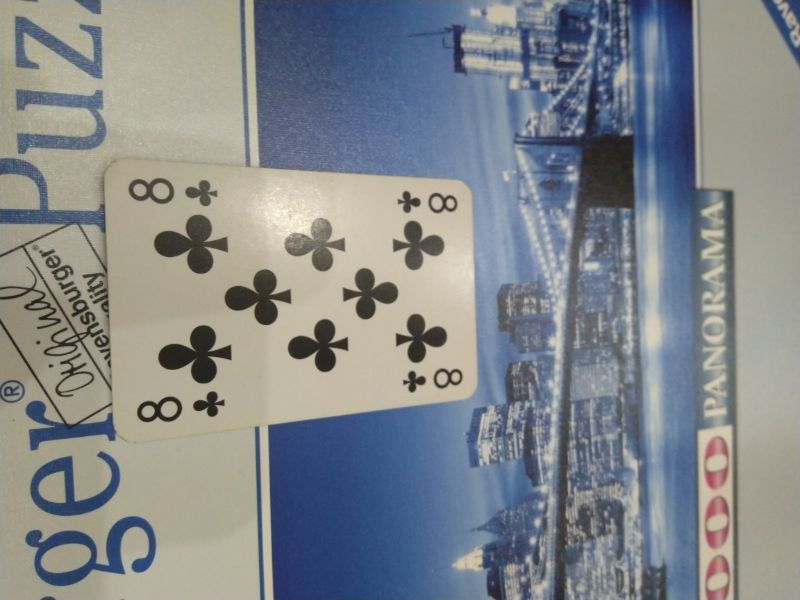8c: (136, 387, 228, 429), (124, 172, 222, 209), (390, 187, 461, 216), (399, 366, 467, 394)
